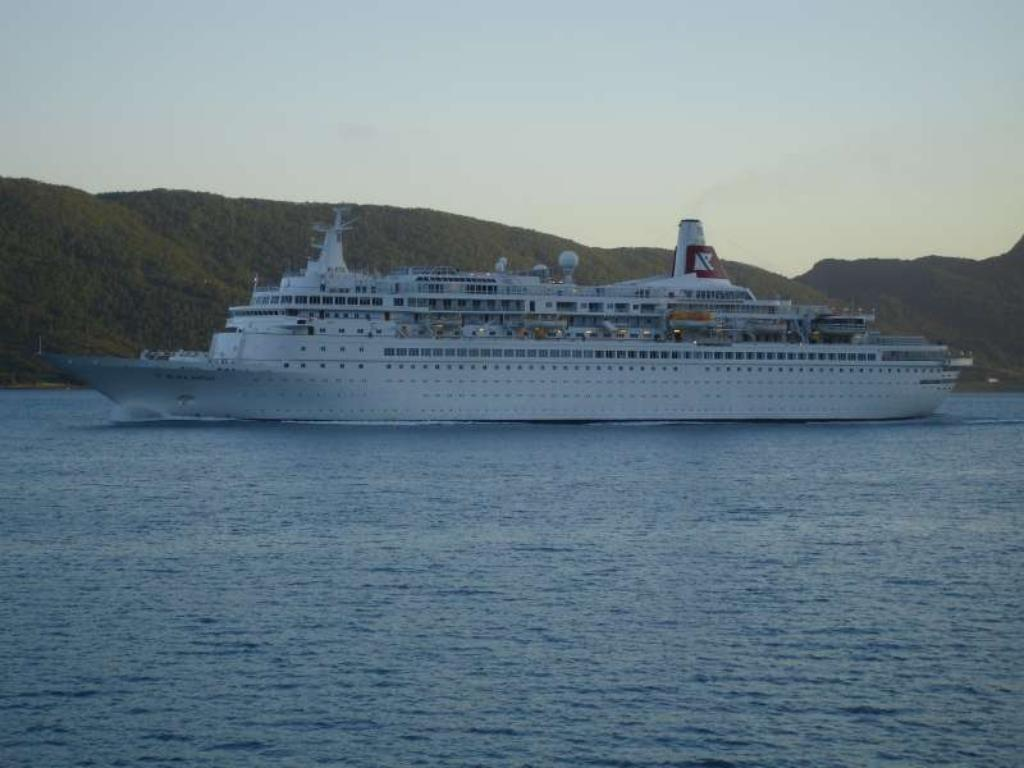PassengerShip: (39, 200, 965, 426)
